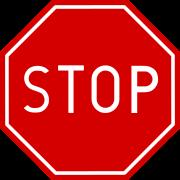Stop: (8, 12, 176, 167)
